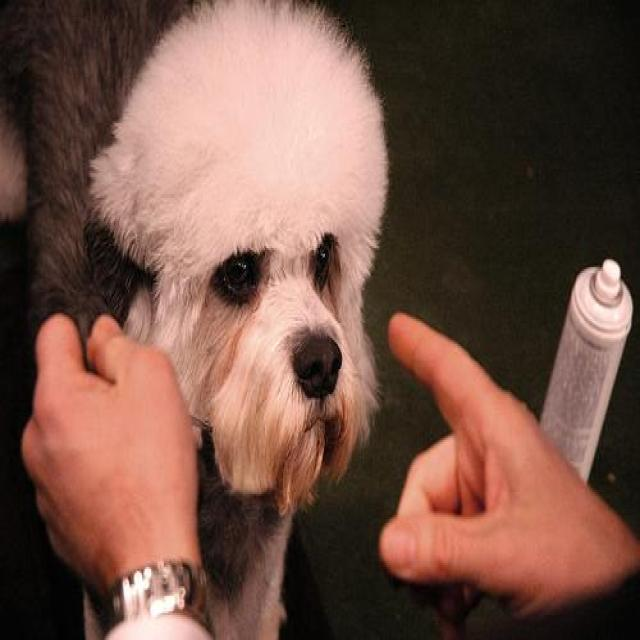dandie_dinmont: (0, 0, 388, 638)
